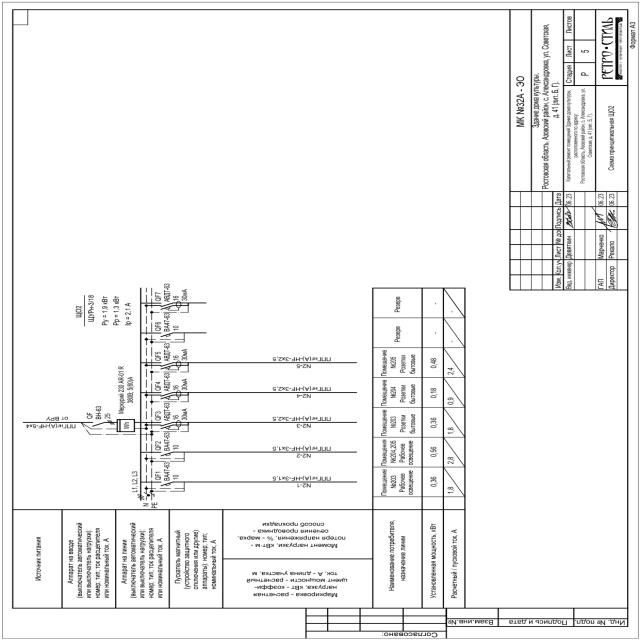-: (117, 364, 135, 416), (163, 402, 188, 422), (163, 282, 188, 302), (164, 342, 189, 362), (164, 372, 188, 392), (162, 431, 179, 452), (163, 461, 180, 482), (163, 312, 180, 332), (94, 404, 112, 420), (87, 294, 97, 322)
QF: (158, 478, 175, 488), (156, 449, 173, 458), (158, 330, 174, 338)
QFD: (157, 389, 182, 402), (156, 360, 182, 372), (157, 300, 182, 312), (158, 419, 182, 431)
QS: (90, 420, 114, 429)
WH: (116, 418, 136, 432)
